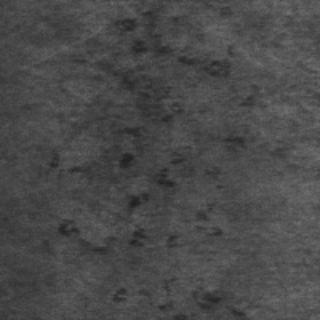rolled pit: (92, 41, 205, 306)
